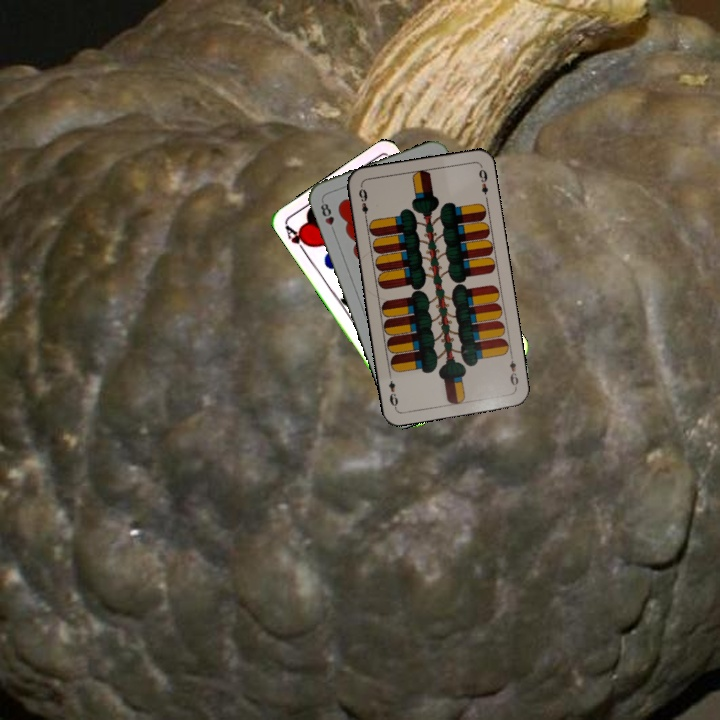E9: (505, 350, 521, 391), (355, 185, 371, 223)
H8: (316, 197, 338, 236)
HA: (281, 221, 312, 257)
